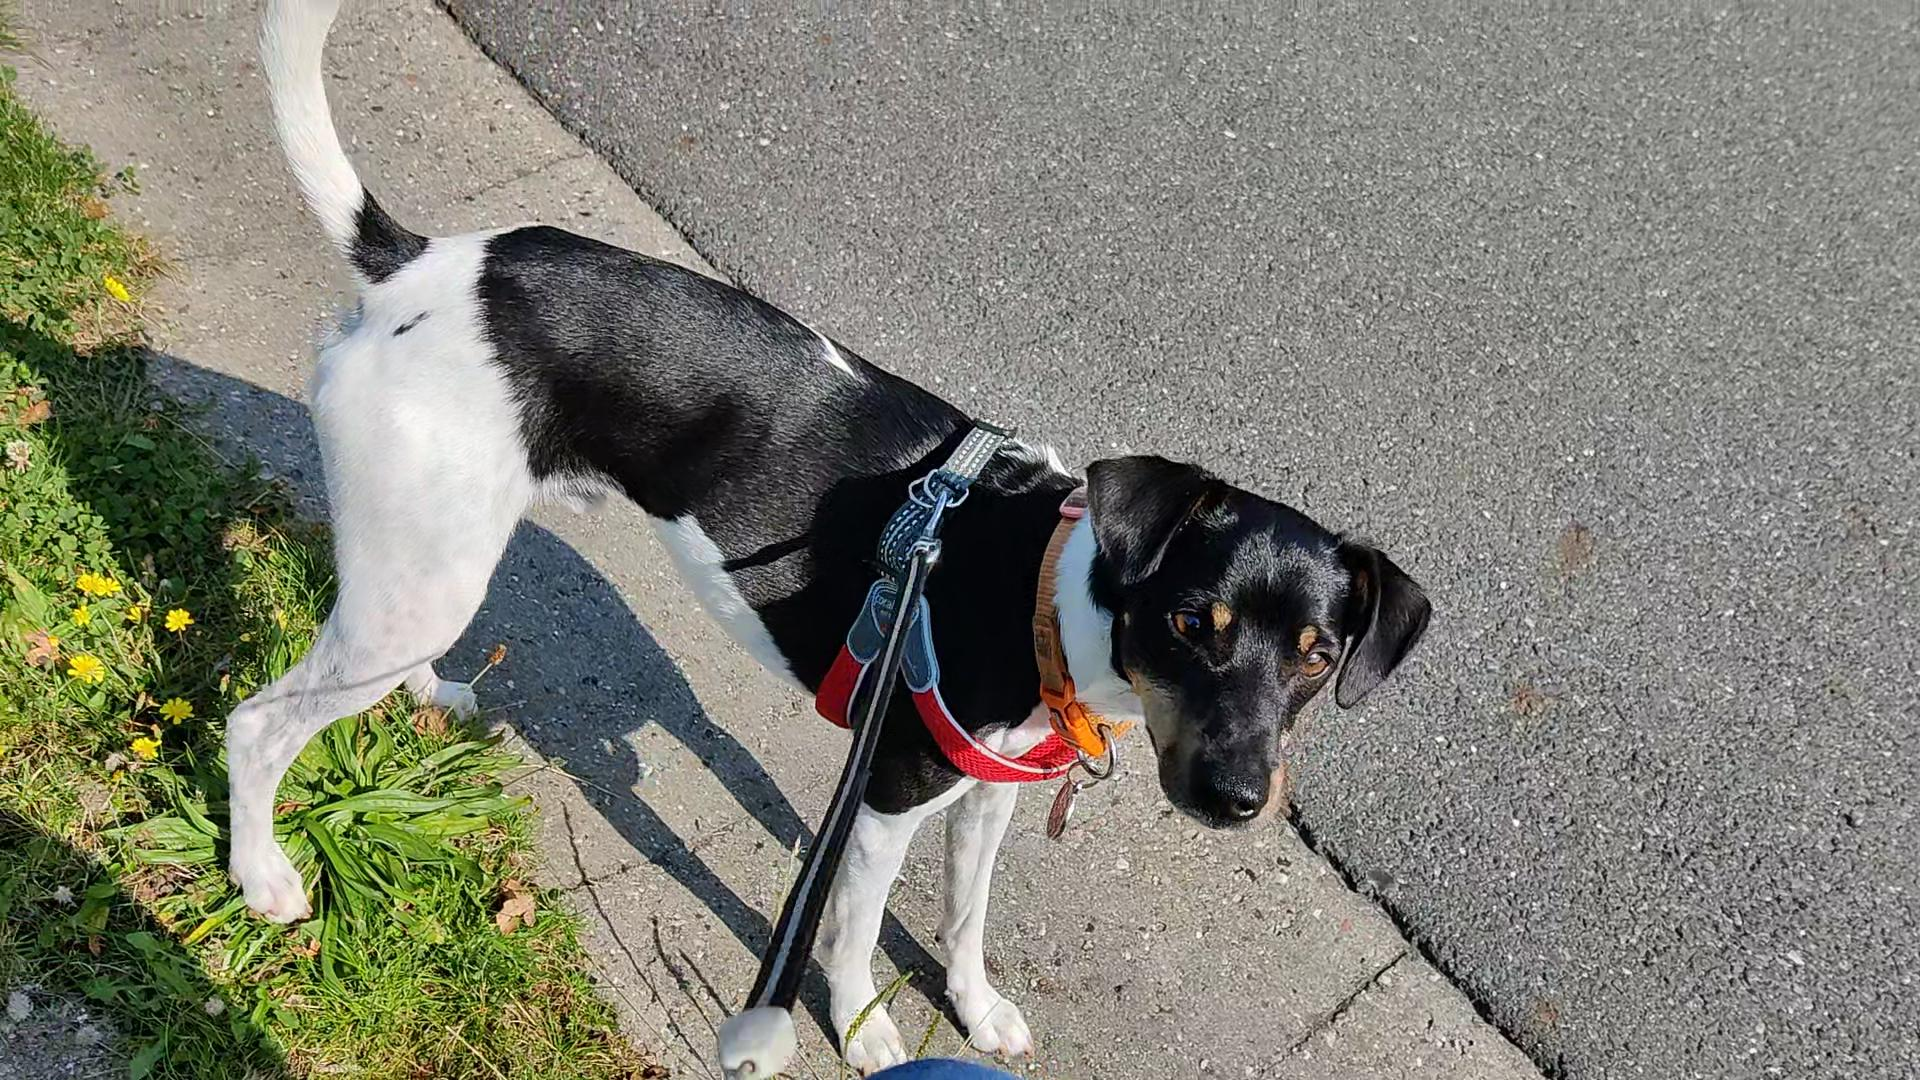Dog: (206, 0, 1437, 1076)
